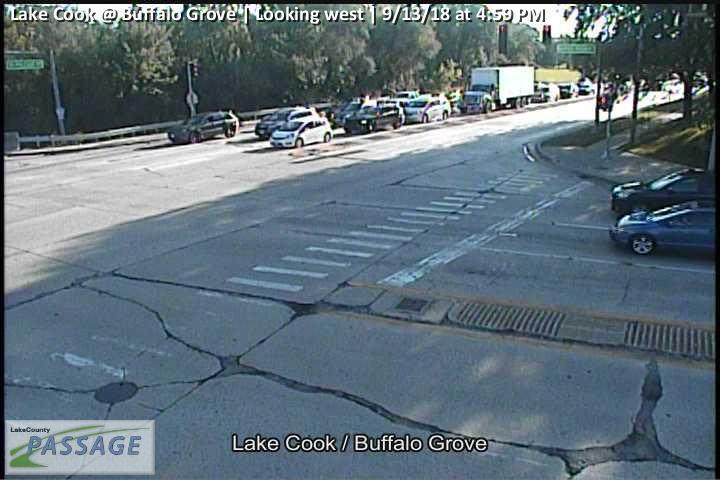SUV: (611, 168, 720, 219), (167, 111, 239, 144), (270, 115, 334, 149), (343, 100, 405, 135), (256, 105, 320, 138), (406, 94, 451, 125)
Sedan: (611, 201, 720, 254)
Truck: (463, 64, 535, 112)
